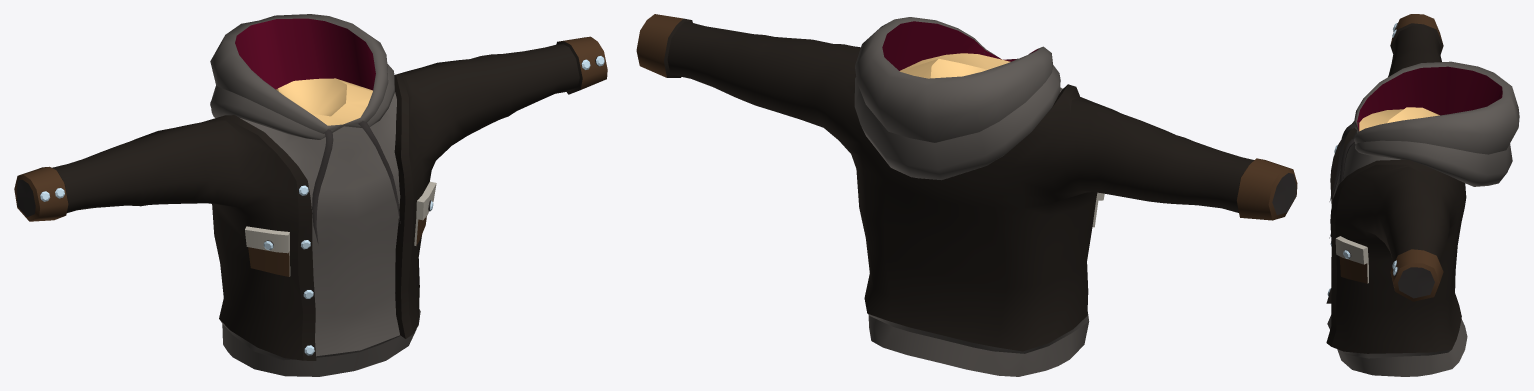
Rendered from Torso_18_03.fbx.
3 views of the same model, side by side, from view 1: azimuth 30°, elevation 25°; view 2: azimuth 150°, elevation 25°; view 3: azimuth 270°, elevation 25° (orthographic). The views are drawn at different scales.
Parts seen in each view (by area): view 1: Torso_18_03; view 2: Torso_18_03; view 3: Torso_18_03.
Part boxes in pixels (bbox=[...]): Torso_18_03: bbox=[14, 14, 607, 376]; Torso_18_03: bbox=[636, 14, 1297, 376]; Torso_18_03: bbox=[1326, 14, 1519, 376].
Bounding box in the file's own units: 118 × 56.44 × 38.38.
